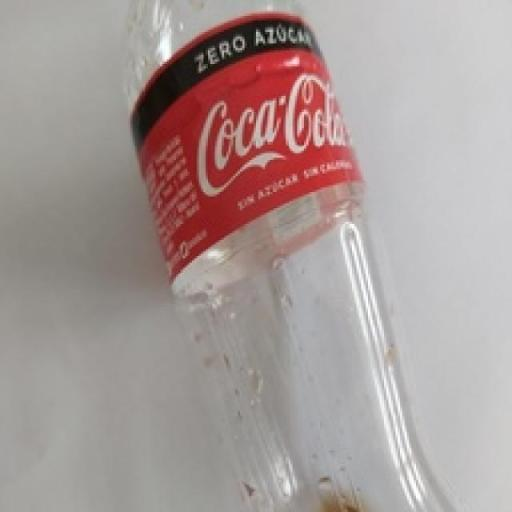plastic: (116, 1, 454, 512)
